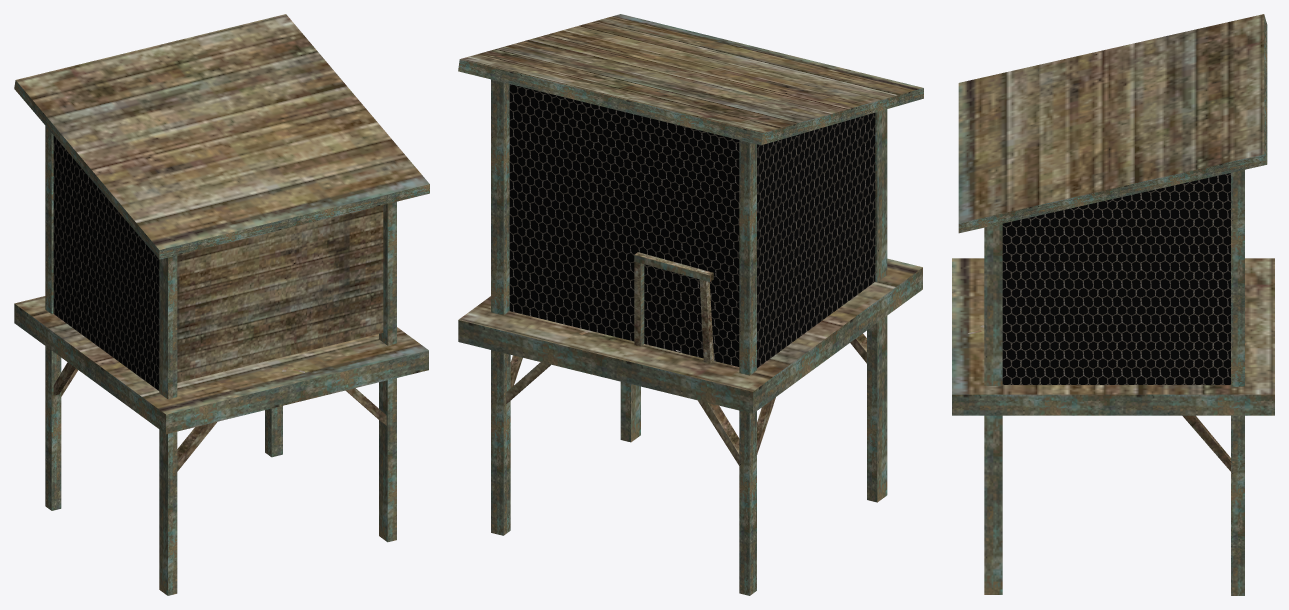
The model's file is pigeon_coop.fbx.
3 renders of one model, left to right at view 1: azimuth 30°, elevation 25°; view 2: azimuth 150°, elevation 25°; view 3: azimuth 270°, elevation 25°, orthographic. The views are drawn at different scales.
Visible parts, largest first — view 1: mesh_15, mesh_16, mesh_12, mesh_22, mesh_11, mesh_18, mesh_13, mesh_14, mesh_20; view 2: mesh_24, mesh_15, mesh_22, mesh_12, mesh_14, mesh_13, mesh_11, mesh_18, mesh_19, mesh_26, mesh_25, mesh_27; view 3: mesh_15, mesh_23, mesh_12, mesh_18, mesh_14, mesh_31.
Boxes of the visible parts, x1,y1,x2,y2 form: mesh_15: (14, 14, 429, 259); mesh_16: (177, 205, 383, 382); mesh_12: (14, 296, 428, 434); mesh_22: (53, 136, 159, 390); mesh_11: (159, 255, 177, 595); mesh_18: (379, 201, 396, 542); mesh_13: (45, 126, 61, 510); mesh_14: (265, 406, 282, 457); mesh_20: (177, 422, 216, 471); mesh_24: (509, 84, 739, 366); mesh_15: (458, 14, 923, 145); mesh_22: (757, 113, 875, 367); mesh_12: (458, 258, 922, 413); mesh_14: (491, 79, 510, 535); mesh_13: (739, 140, 756, 595); mesh_11: (867, 109, 887, 502); mesh_18: (620, 381, 640, 442); mesh_19: (698, 400, 739, 465); mesh_26: (634, 261, 644, 346); mesh_25: (699, 279, 713, 363); mesh_27: (634, 252, 713, 281); mesh_15: (958, 14, 1267, 233); mesh_23: (1002, 173, 1230, 384); mesh_12: (952, 258, 1274, 415); mesh_18: (984, 223, 1002, 594); mesh_14: (1231, 169, 1244, 595); mesh_31: (1182, 415, 1230, 471).
Size of the model in its own units: 144 by 216 by 140.
Materials: 3 (3 with a texture image).
